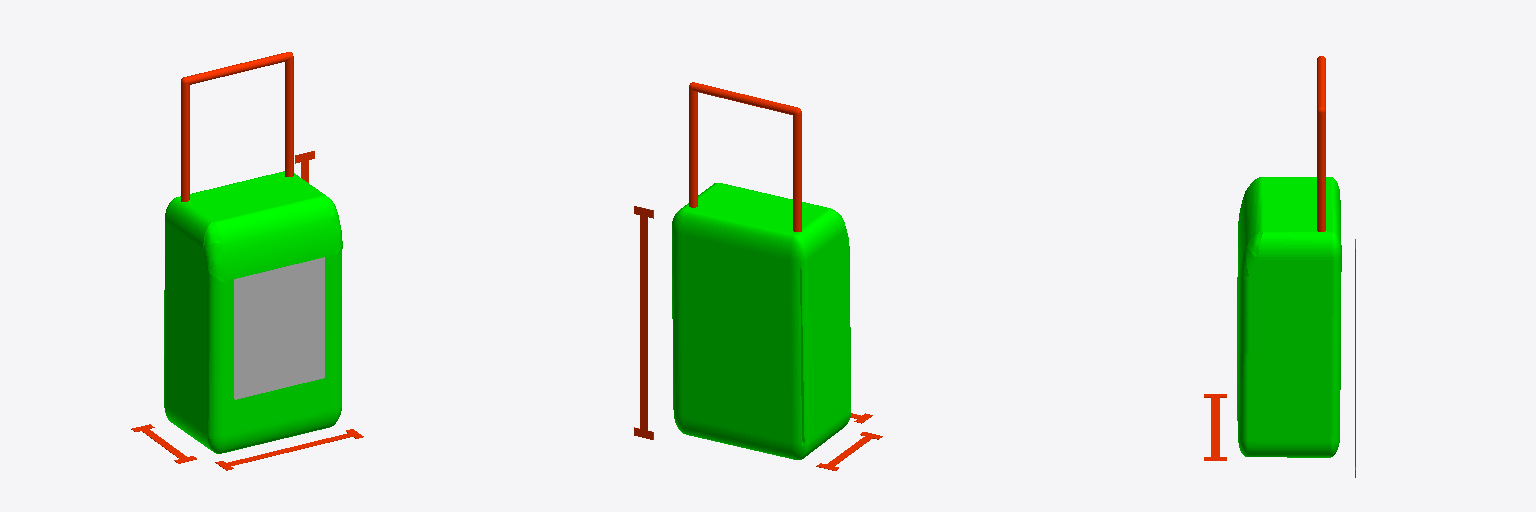
File: suitcase_green.obj
3 views of the same model, side by side, from view 1: azimuth 30°, elevation 25°; view 2: azimuth 150°, elevation 25°; view 3: azimuth 270°, elevation 25° (orthographic).
Parts seen in each view (by area): view 1: Cube, logo_Untitled-2-01, handle_Sphere, ruler_y_Plane.007; view 2: Cube, handle_Sphere, ruler_z_Plane.002; view 3: Cube, handle_Sphere, ruler_y_Plane.007.
Part boxes in pixels (bbox=[...]): Cube: bbox=[164, 171, 342, 453]; logo_Untitled-2-01: bbox=[234, 257, 324, 399]; handle_Sphere: bbox=[181, 52, 293, 201]; ruler_y_Plane.007: bbox=[215, 429, 363, 470]; Cube: bbox=[672, 183, 850, 459]; handle_Sphere: bbox=[689, 82, 801, 231]; ruler_z_Plane.002: bbox=[634, 206, 653, 439]; Cube: bbox=[1237, 177, 1341, 457]; handle_Sphere: bbox=[1317, 56, 1325, 231]; ruler_y_Plane.007: bbox=[1204, 394, 1226, 460].
Size of the model in its own units: 0.4995 by 0.8708 by 0.3395.